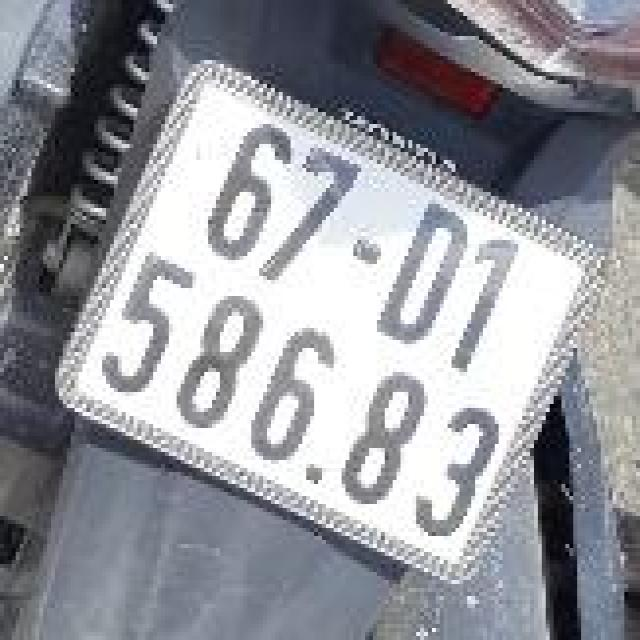1: (432, 224, 529, 385)
3: (399, 390, 510, 552)
5: (84, 238, 206, 411)
6: (235, 311, 350, 478), (190, 111, 305, 276)
7: (249, 137, 367, 307)
8: (323, 357, 439, 523), (163, 278, 277, 441)
D: (361, 187, 482, 364)
